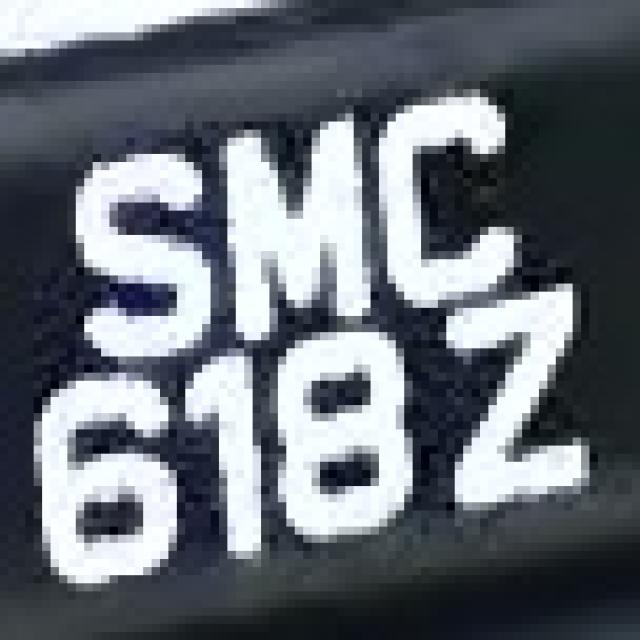1: (151, 348, 278, 576)
6: (25, 373, 168, 575)
8: (244, 324, 438, 551)
C: (362, 73, 531, 300)
M: (185, 97, 371, 340)
S: (50, 146, 219, 364)
Z: (421, 284, 598, 542)
